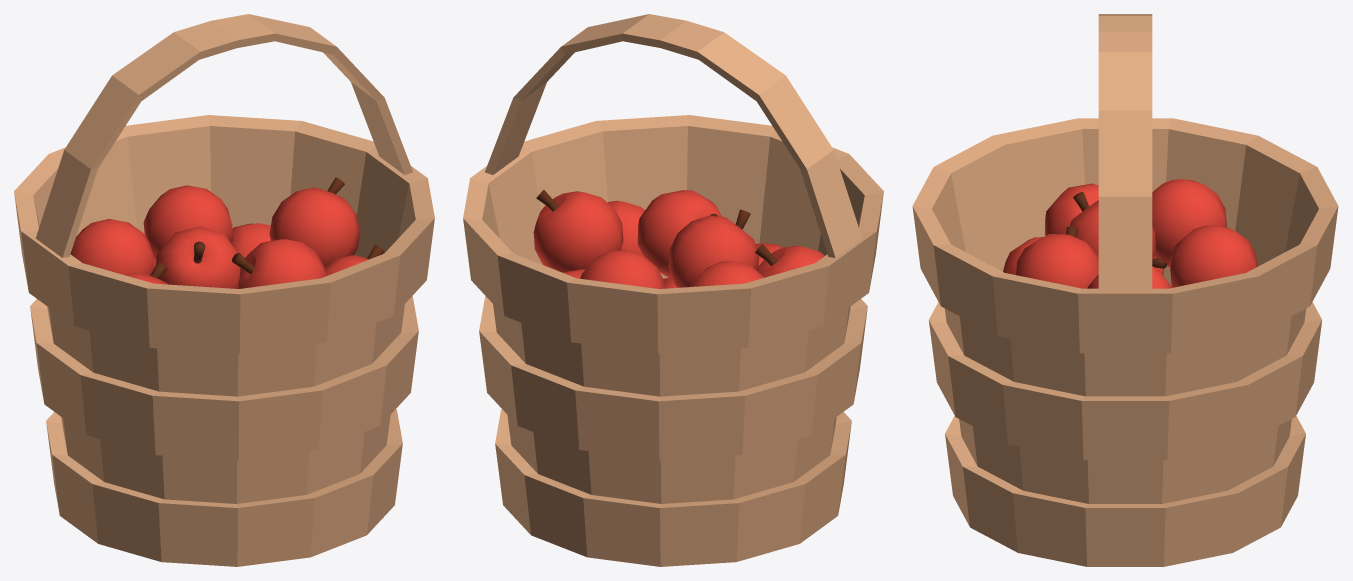
Rendered from obj_basket_of_apples_0f93f6.glb.
3 views of the same model, side by side, from view 1: azimuth 30°, elevation 25°; view 2: azimuth 150°, elevation 25°; view 3: azimuth 270°, elevation 25° (orthographic).
Parts seen in each view (by area): view 1: obj_basket_of_apples_0f93f6; view 2: obj_basket_of_apples_0f93f6; view 3: obj_basket_of_apples_0f93f6.
Part boxes in pixels (bbox=[...]): obj_basket_of_apples_0f93f6: bbox=[14, 14, 434, 566]; obj_basket_of_apples_0f93f6: bbox=[463, 14, 883, 566]; obj_basket_of_apples_0f93f6: bbox=[912, 14, 1338, 566].
Bounding box in the file's own units: 0.3244 × 0.4 × 0.3327.
